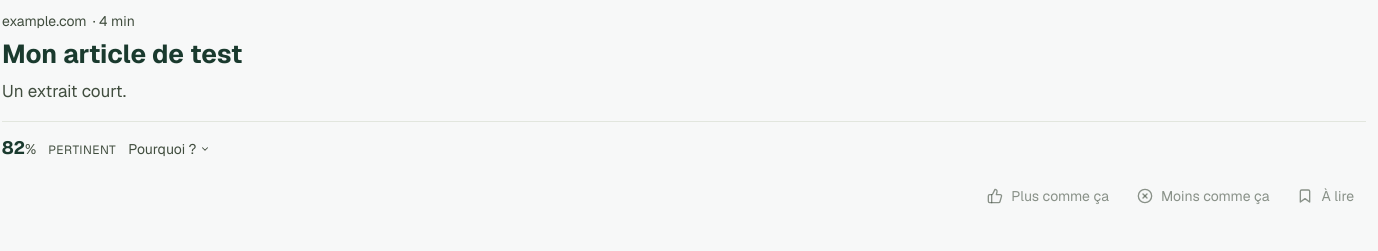
ArticleCard › cache la justification par defaut et l affiche via toggle Pourquoi
This screenshot has width=1378, height=251.
What coordinates should you click on to do the following:
click the button with test id "toggle-details-abc-123"
I would click on:
 (169, 148)
Its box is [128,138,210,158].
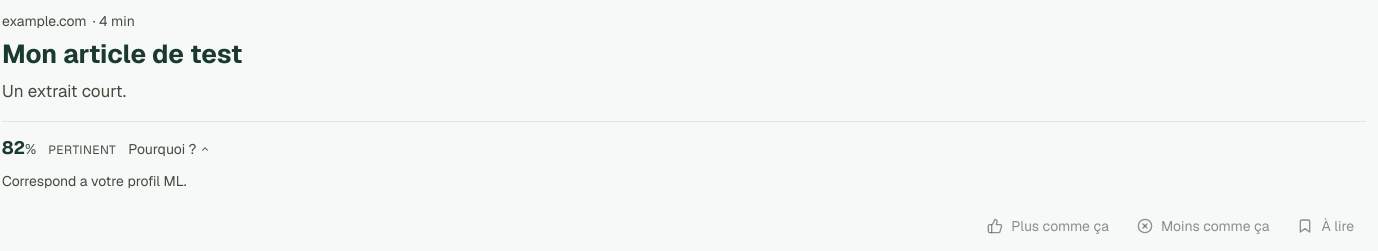
Expected: the text "Correspond a votre profil ML." is shown, [2,172,186,190]
